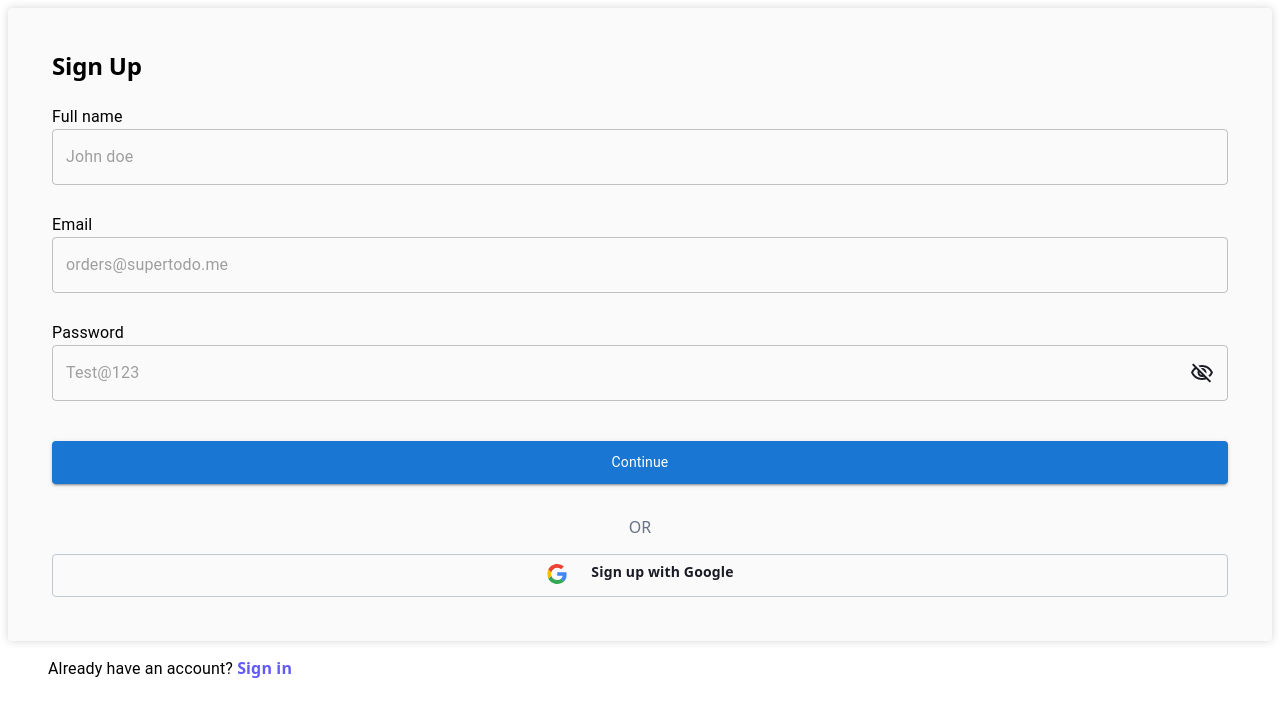
it: SignIn › it should show error message for invalid email format
In the field with placeholder "orders@supertodo.me": [640, 265] box [52,237,1228,293], type "invalid-email"
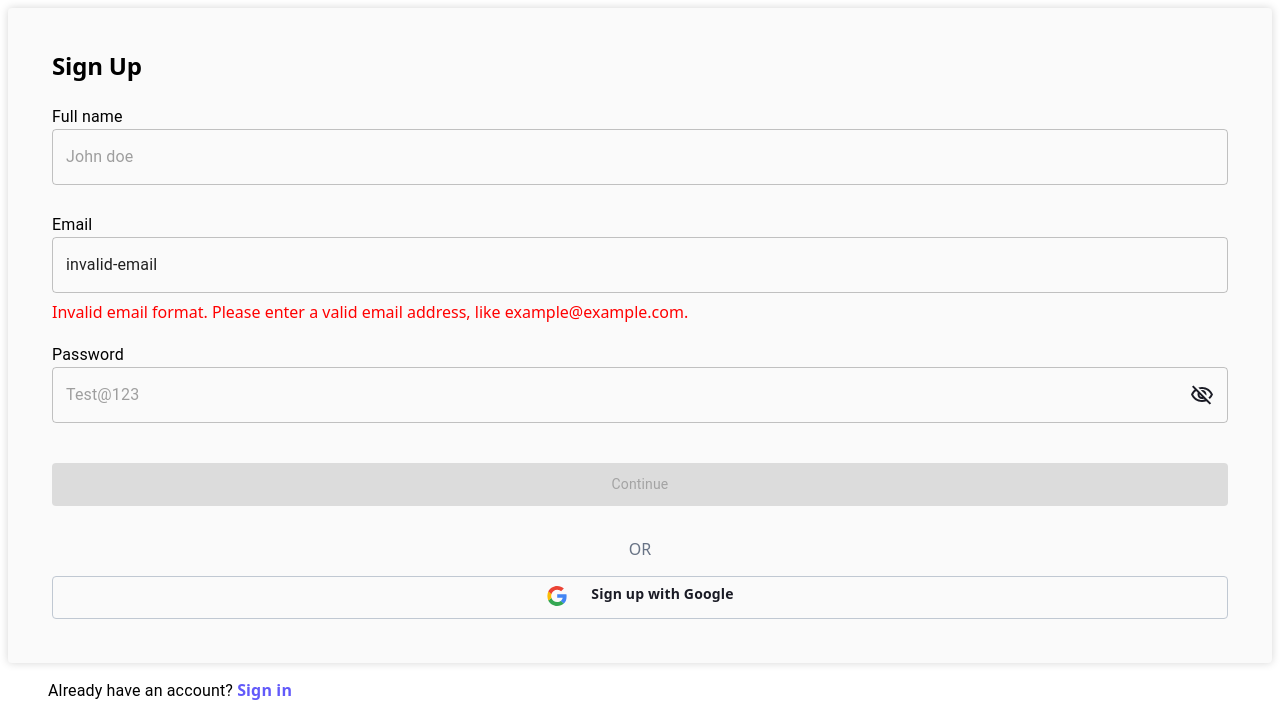
Check: the text "Invalid email format. Please enter a valid email address, like example@example.com." is shown, box [52,301,688,323]
In the field with placeholder "John doe": [640, 157] box [52,129,1228,185], type "Anuj123"
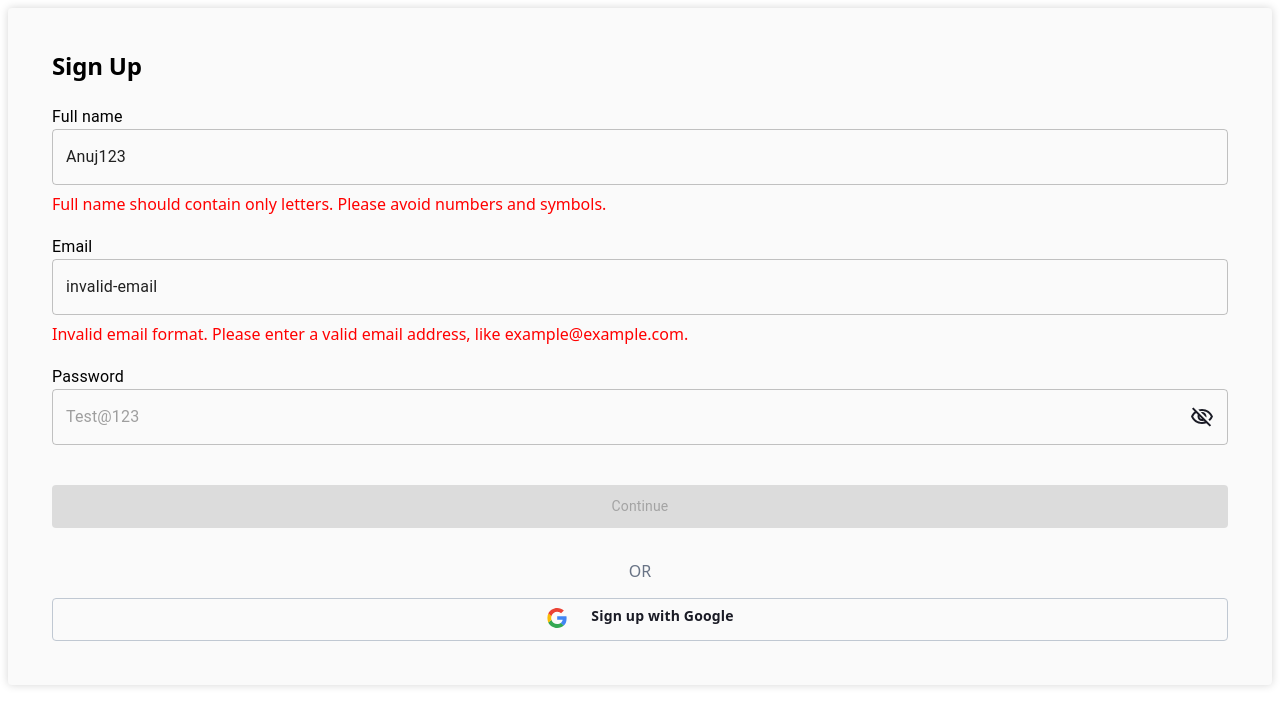
Check: the text "Full name should contain only letters. Please avoid numbers and symbols." is shown, box [52,193,606,215]
